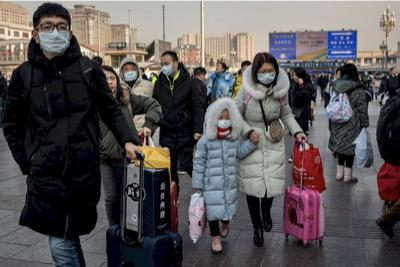with_mask: (38, 20, 70, 56), (257, 67, 277, 83), (123, 65, 139, 82), (160, 60, 175, 76), (217, 114, 233, 128)
without_mask: (105, 75, 118, 92), (292, 73, 299, 82), (215, 64, 222, 72)
